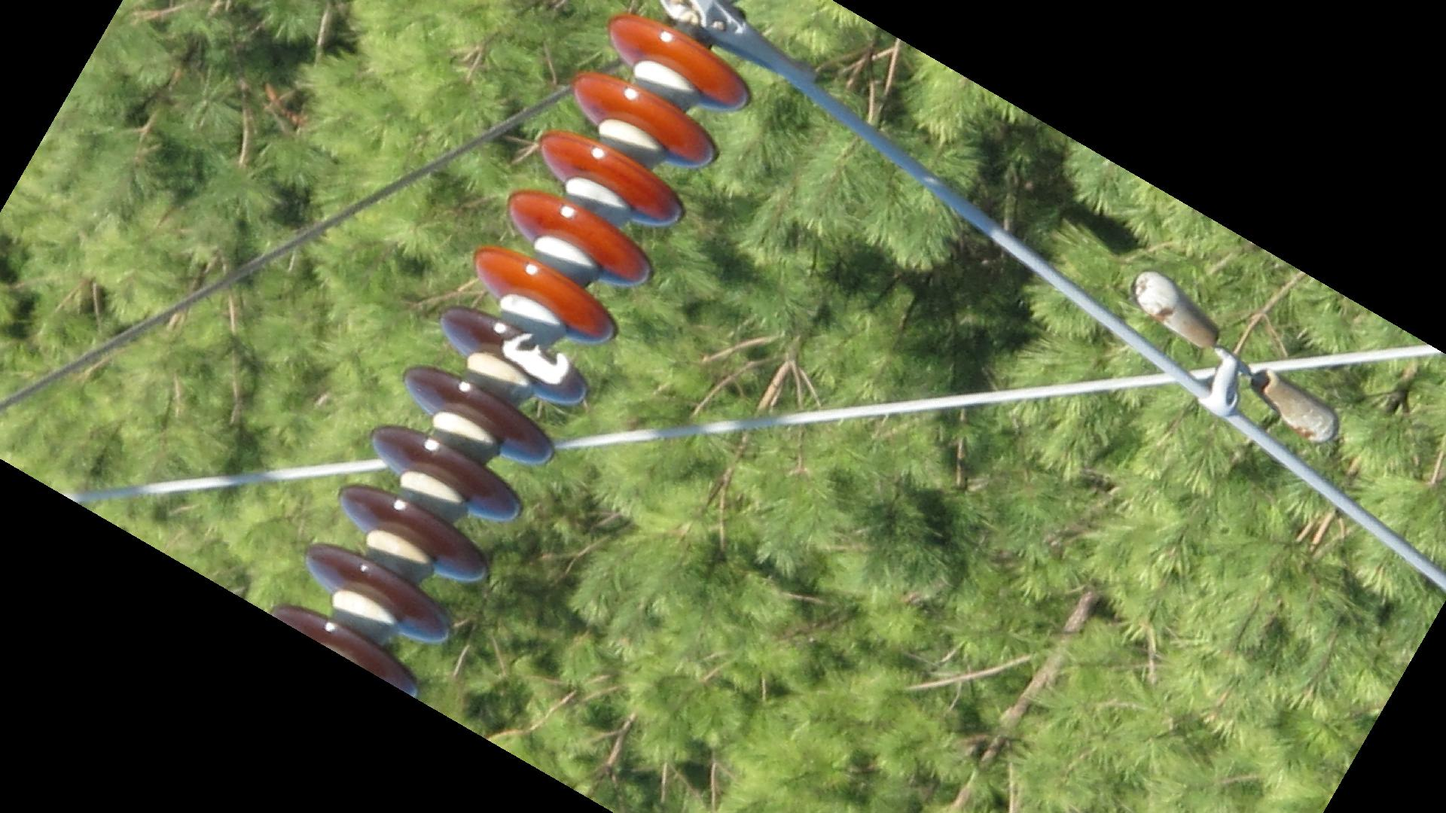insulator: (268, 10, 761, 704)
insulator_breakage: (492, 323, 580, 394)
